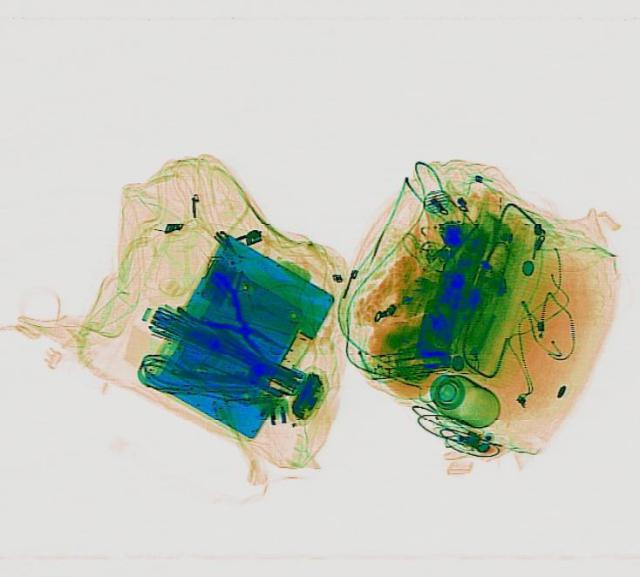Pliers: (172, 270, 298, 373)
